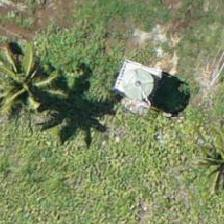coconut_tree: (0, 35, 70, 125)
